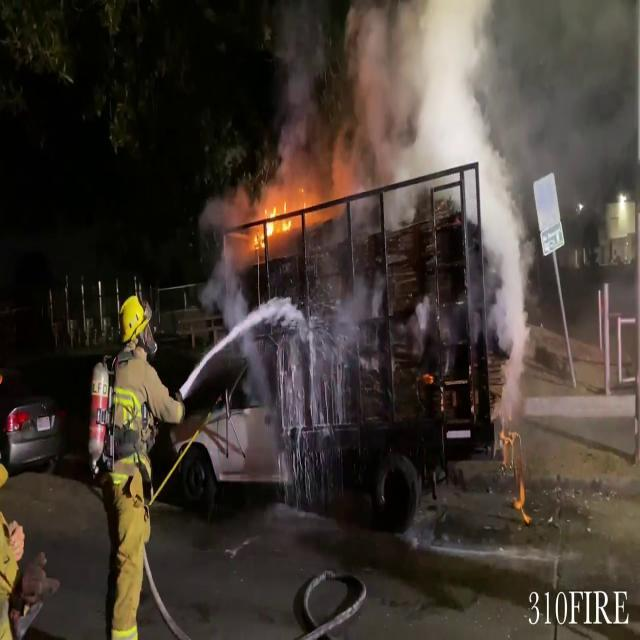Fire: (250, 185, 340, 242)
Smoke: (264, 0, 637, 204)
